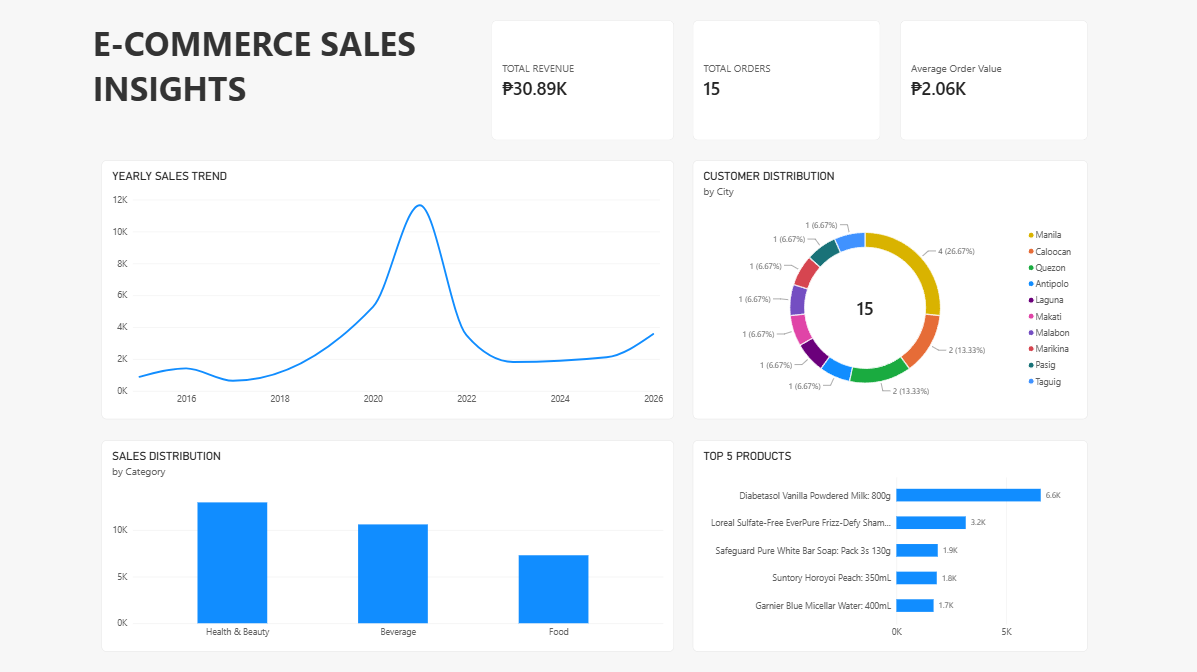

This screenshot's page, from the dashboard's own definition file:
{"tool":"powerbi","page":{"name":"Sales Insights","canvas":[1920,1080],"ordinal":0},"visuals":[{"type":"cardVisual","fields":{"Data":["Sum(orders.total_amount)"]},"box":[788,34,292,192],"z":0},{"type":"cardVisual","fields":{"Data":["CountNonNull(orders.order_id)"]},"box":[1110,34,300,192],"z":1},{"type":"cardVisual","fields":{"Data":["orders.Average Order Value"]},"box":[1442,34,300,192],"z":2},{"type":"lineChart","title":"YEARLY SALES TREND","fields":{"Category":["orders.order_date.Variation.Date Hierarchy.Year","orders.order_date.Variation.Date Hierarchy.Quarter","orders.order_date.Variation.Date Hierarchy.Month","orders.order_date.Variation.Date Hierarchy.Day"],"Y":["Sum(orders.total_amount)"]},"box":[164,258,916,414],"z":3},{"type":"textbox","box":[150,34,528,192],"z":4},{"type":"donutChart","fields":{"Category":["customers.city"],"Y":["orders.Customers with Orders"]},"box":[1110,258,632,414],"z":5},{"type":"clusteredColumnChart","fields":{"Category":["products.category"],"Y":["orders.Sales by Category"]},"box":[164,706,916,338],"z":6},{"type":"clusteredBarChart","title":"TOP 5 PRODUCTS","fields":{"Category":["products.product_name"],"Y":["orders.Sales by Category"]},"box":[1110,706,632,338],"z":7}]}

Visuals, with their boxes in screenshot pixels (x1, y1, x2, y2), scaled from the page's 1920x1080 canvas onto the 1197x672 screenshot:
cardVisual - Sum(orders.total_amount): 491/21/673/141
cardVisual - CountNonNull(orders.order_id): 692/21/879/141
cardVisual - orders.Average Order Value: 899/21/1086/141
"YEARLY SALES TREND" lineChart: 102/161/673/418
textbox: 94/21/423/141
donutChart - customers.city x orders.Customers with Orders: 692/161/1086/418
clusteredColumnChart - products.category x orders.Sales by Category: 102/439/673/650
"TOP 5 PRODUCTS" clusteredBarChart: 692/439/1086/650
